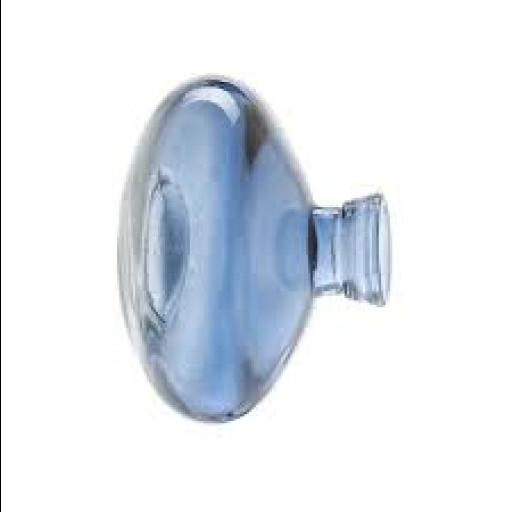blue-bottle: (121, 80, 389, 421)
